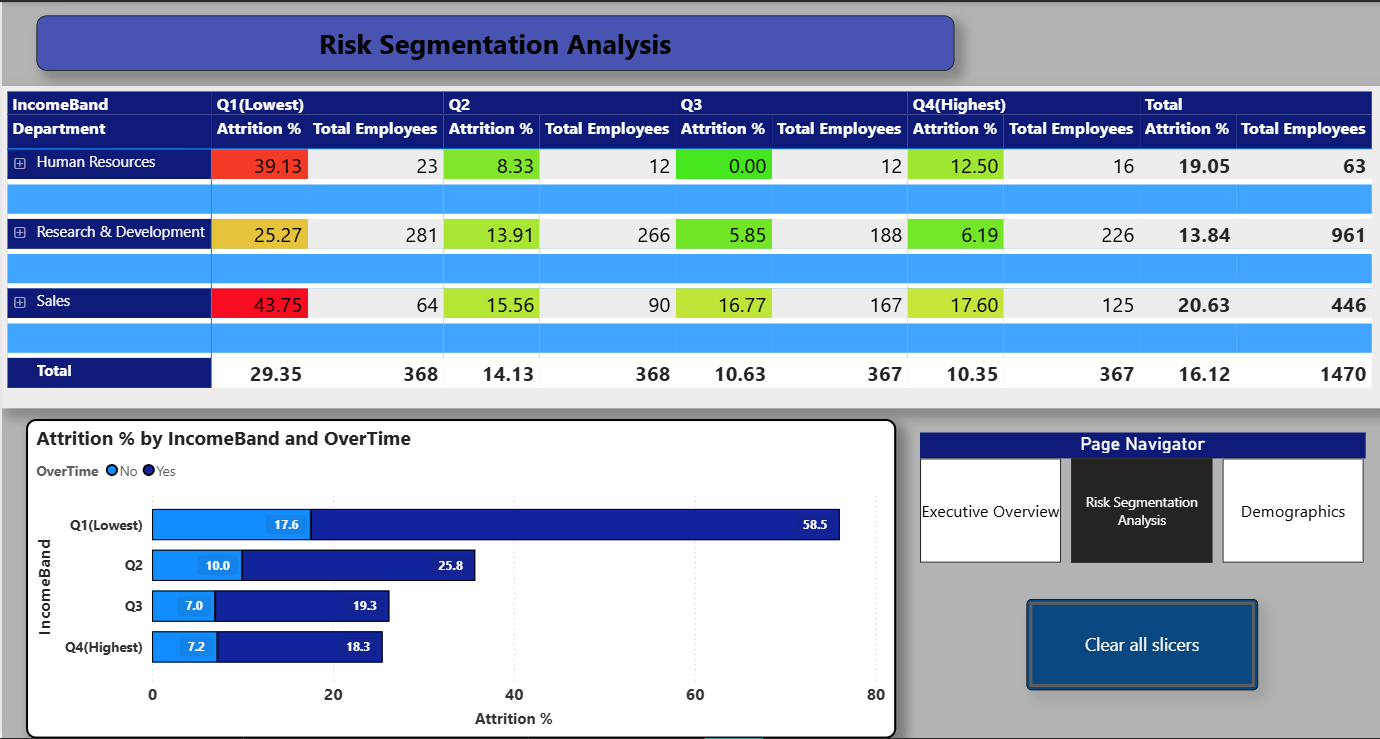

This screenshot's page, from the dashboard's own definition file:
{"tool":"powerbi","page":{"name":"Risk Segmentation Analysis","canvas":[1350,720],"ordinal":1},"visuals":[{"type":"pivotTable","fields":{"Rows":["hr_dashboard_metrics.Department","hr_dashboard_metrics.TenureBand"],"Columns":["hr_dashboard_metrics.IncomeBand"],"Values":["hr_dashboard_metrics.Attrition %","hr_dashboard_metrics.Total Employees"]},"box":[0,82.2,1350,315.5],"z":0},{"type":"barChart","fields":{"Category":["hr_dashboard_metrics.IncomeBand"],"Series":["hr_dashboard_metrics.OverTime"],"Y":["hr_dashboard_metrics.Attrition %"]},"box":[23.5,407.9,851.1,312.6],"z":1000},{"type":"textbox","box":[33.8,13.2,898.1,54.3],"z":2000},{"type":"pageNavigator","title":"Page Navigator","box":[897.5,421.6,436,127.8],"z":3000},{"type":"actionButton","box":[1002.9,584.5,226.8,89.4],"z":4000}]}

Visuals, with their boxes in screenshot pixels (x1, y1, x2, y2), scaled from the page's 1350x720 canvas onto the 1380x739 screenshot:
pivotTable - hr_dashboard_metrics.Department x hr_dashboard_metrics.TenureBand: x1=0 y1=84 x2=1379 y2=408
barChart - hr_dashboard_metrics.IncomeBand x hr_dashboard_metrics.OverTime: x1=24 y1=419 x2=894 y2=738
textbox: x1=35 y1=14 x2=953 y2=69
"Page Navigator" pageNavigator: x1=917 y1=433 x2=1363 y2=564
actionButton: x1=1025 y1=600 x2=1257 y2=692
